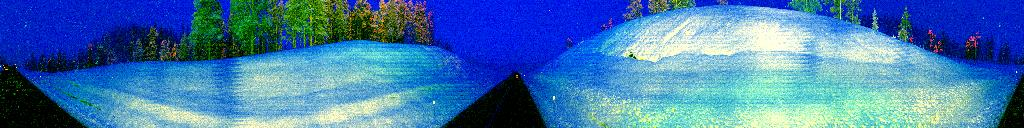pole: (551, 88, 557, 122), (432, 90, 437, 124)
